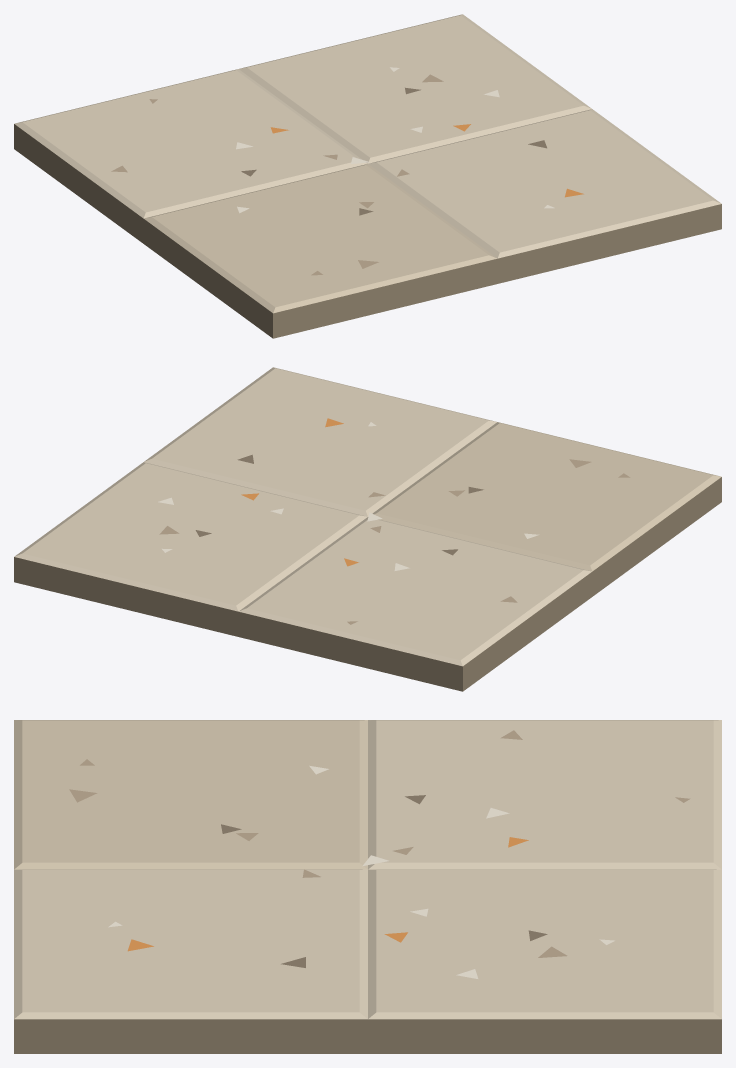
File: boden_terrazzo_a.glb
3 views of the same model, one above another, from view 1: azimuth 30°, elevation 25°; view 2: azimuth 150°, elevation 25°; view 3: azimuth 270°, elevation 25° (orthographic). The views are drawn at different scales.
Parts seen in each view (by area): view 1: boden_terrazzo_a; view 2: boden_terrazzo_a; view 3: boden_terrazzo_a.
Boxes of the visible parts, x1,y1,x2,y2 form: boden_terrazzo_a: [14, 14, 721, 338]; boden_terrazzo_a: [14, 367, 721, 691]; boden_terrazzo_a: [14, 720, 721, 1053].
Size of the model in its own units: 1 by 0.06 by 1.
